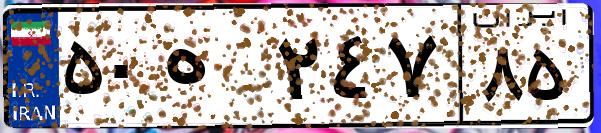0: (110, 28, 158, 98)
2: (270, 28, 330, 110)
4: (330, 28, 385, 110)
5: (57, 26, 110, 100), (525, 38, 570, 115)
7: (385, 28, 445, 110)
8: (475, 38, 525, 113)
ه: (158, 20, 270, 120)
